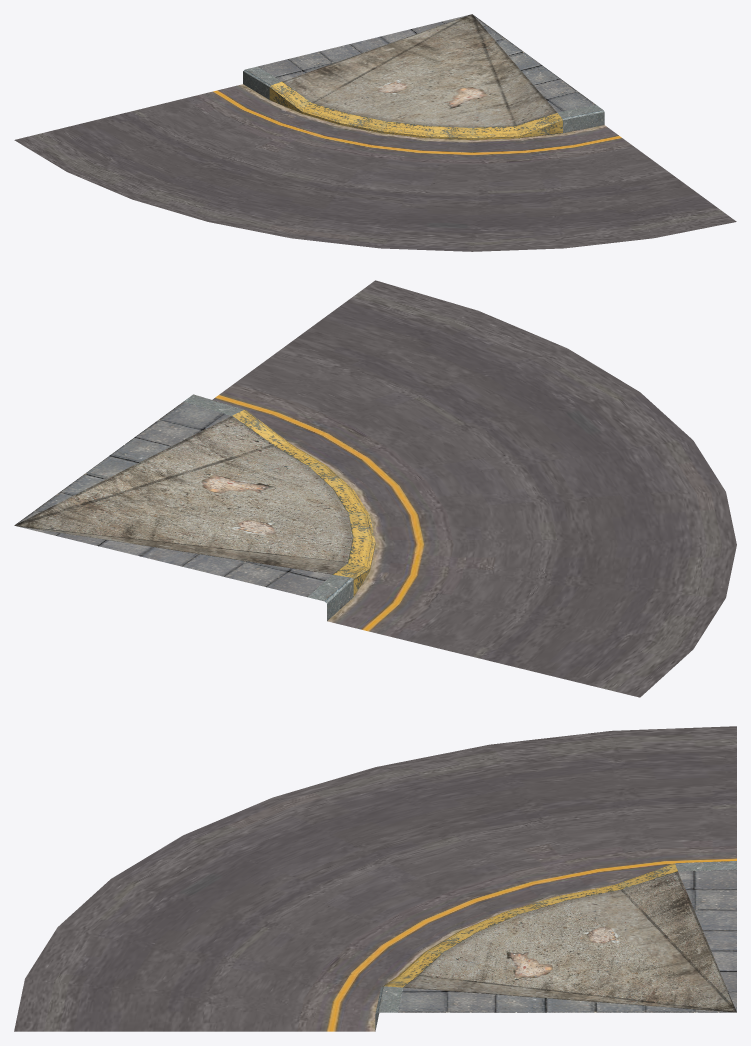
Rendered from road-corner4.obj.
The picture shows the model from 3 angles, top to bottom: view 1: azimuth 30°, elevation 25°; view 2: azimuth 150°, elevation 25°; view 3: azimuth 270°, elevation 25°; orthographic projection. The views are drawn at different scales.
Parts seen in each view (by area): view 1: Plane.021; view 2: Plane.021; view 3: Plane.021.
Part boxes in pixels (x1,y1,x2,y2): Plane.021: (14,14,736,251); Plane.021: (14,280,736,697); Plane.021: (14,726,736,1031).
Size of the model in its own units: 12 by 0.3524 by 12.
Materials: 7 (6 with a texture image).
